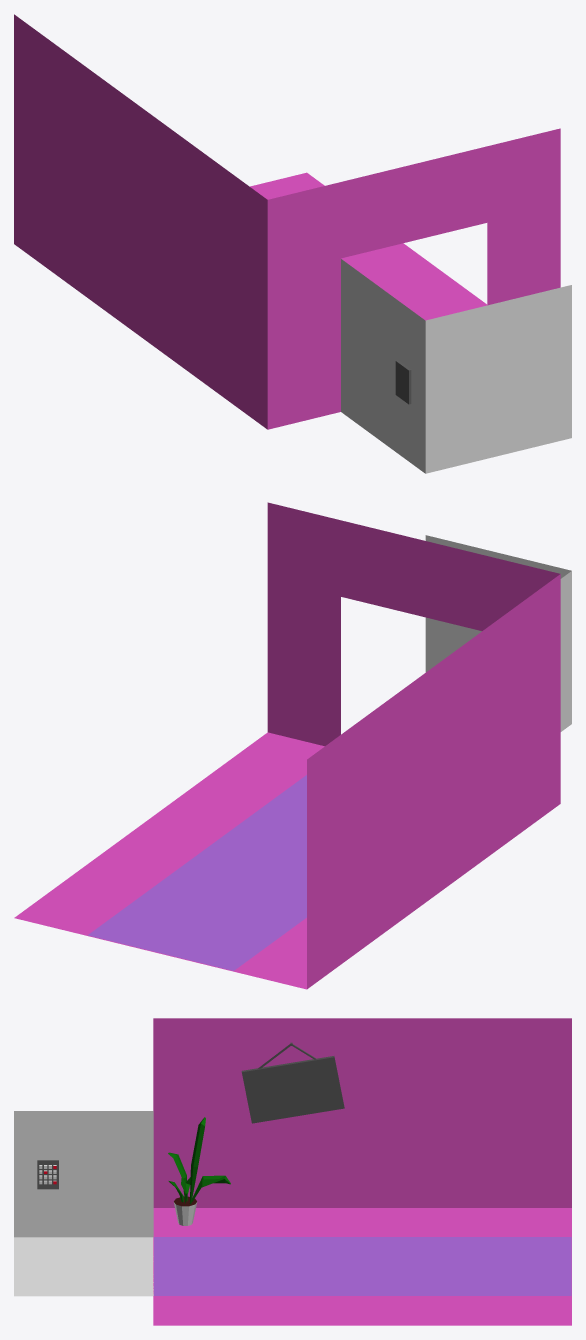
File: Floor 1.fbx
The picture shows the model from 3 angles, top to bottom: view 1: azimuth 30°, elevation 25°; view 2: azimuth 150°, elevation 25°; view 3: azimuth 270°, elevation 25°; orthographic projection. The views are drawn at different scales.
Parts seen in each view (by area): view 1: Plane, Cube, Cube.001; view 2: Plane, Plane.001, Cube; view 3: Plane, Cube, Plane.001, Cube.003, Cylinder, Cube.001.
Boxes of the visible parts, bbox=[...] form: Plane: bbox=[14, 14, 560, 429]; Cube: bbox=[341, 259, 571, 473]; Cube.001: bbox=[395, 360, 411, 404]; Plane: bbox=[14, 502, 560, 989]; Plane.001: bbox=[88, 775, 306, 970]; Cube: bbox=[425, 535, 571, 731]; Plane: bbox=[153, 1018, 571, 1325]; Cube: bbox=[14, 1111, 153, 1296]; Plane.001: bbox=[154, 1237, 571, 1295]; Cube.003: bbox=[241, 1042, 344, 1123]; Cylinder: bbox=[168, 1117, 230, 1225]; Cube.001: bbox=[37, 1160, 58, 1189].
Size of the model in its own units: 200 by 150 by 400.
